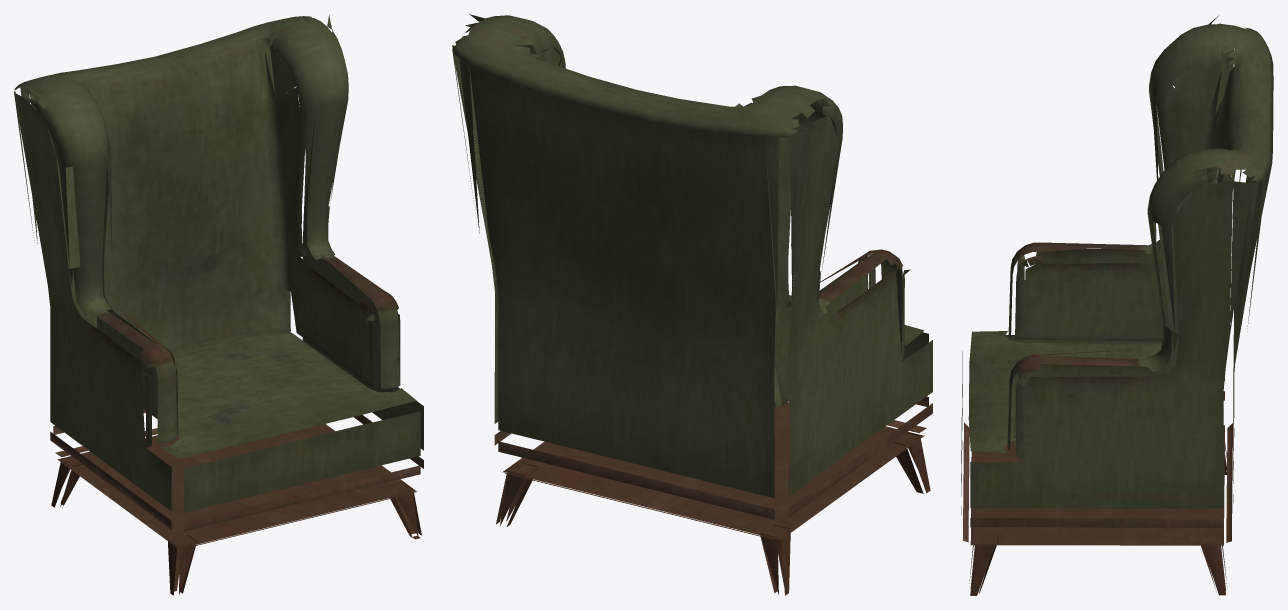
Rendered from chair-14.glb.
3 views of the same model, side by side, from view 1: azimuth 30°, elevation 25°; view 2: azimuth 150°, elevation 25°; view 3: azimuth 270°, elevation 25° (orthographic). The views are drawn at different scales.
Visible parts, largest first — view 1: Cube.1629; view 2: Cube.1629; view 3: Cube.1629.
Boxes of the visible parts, box(x1,y1,x2,y2) form: Cube.1629: box(14, 14, 423, 595); Cube.1629: box(452, 14, 932, 595); Cube.1629: box(961, 15, 1273, 595).
Bounding box in the file's own units: 7.62 × 10.22 × 6.5.
Materials: 1 (1 with a texture image).
